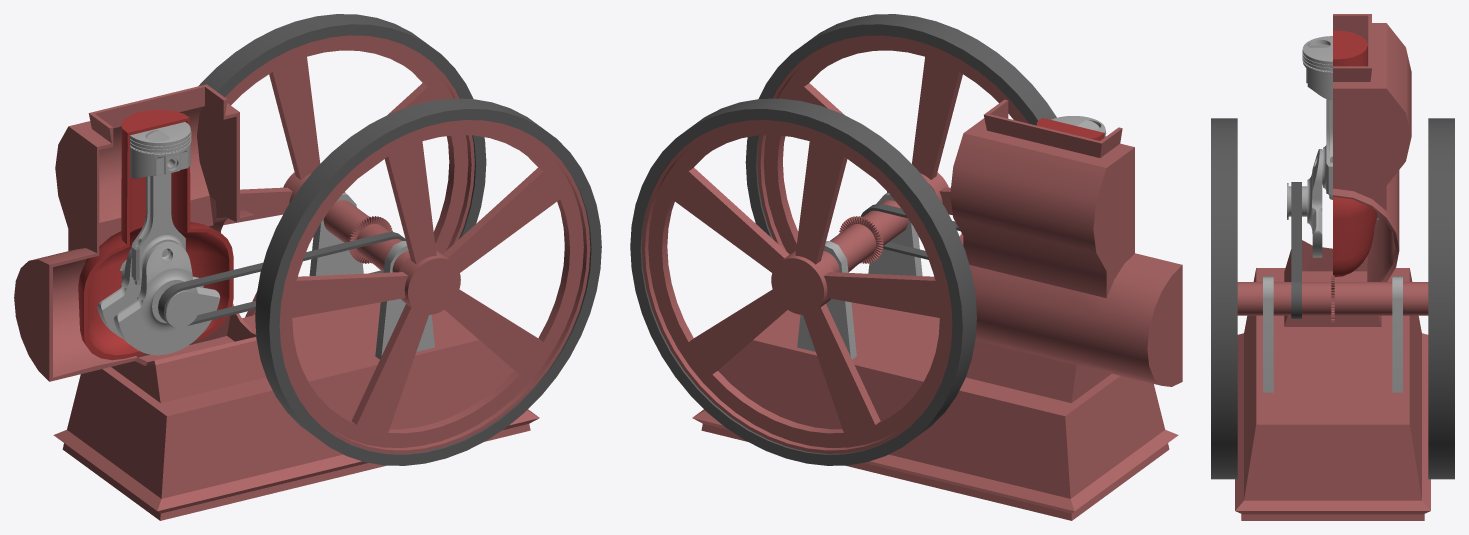
File: nrj.fbx
3 renders of one model, left to right at view 1: azimuth 30°, elevation 25°; view 2: azimuth 150°, elevation 25°; view 3: azimuth 270°, elevation 25°, orthographic. The views are drawn at different scales.
Parts seen in each view (by area): view 1: pCylinder11group2, group2pCylinder6, group2polySurface211, group2polySurface295, group2polySurface168, group2polySurface8; view 2: pCylinder11group2, group2pCylinder6; view 3: pCylinder11group2, group2pCylinder6, group2polySurface211, group2polySurface295, group2polySurface168.
Boxes of the visible parts, left/top/right/bottom form: pCylinder11group2: left=14, top=84, right=539, bottom=520; group2pCylinder6: left=198, top=14, right=601, bottom=465; group2polySurface211: left=113, top=242, right=220, bottom=355; group2polySurface295: left=130, top=122, right=191, bottom=178; group2polySurface168: left=131, top=173, right=185, bottom=284; group2polySurface8: left=97, top=248, right=203, bottom=338; pCylinder11group2: left=692, top=99, right=1182, bottom=520; group2pCylinder6: left=630, top=14, right=1056, bottom=465; pCylinder11group2: left=1235, top=14, right=1430, bottom=520; group2pCylinder6: left=1211, top=118, right=1454, bottom=479; group2polySurface211: left=1287, top=149, right=1322, bottom=257; group2polySurface295: left=1302, top=36, right=1332, bottom=99; group2polySurface168: left=1322, top=99, right=1332, bottom=199.
Size of the model in its own units: 27.9 by 19.54 by 12.84.
